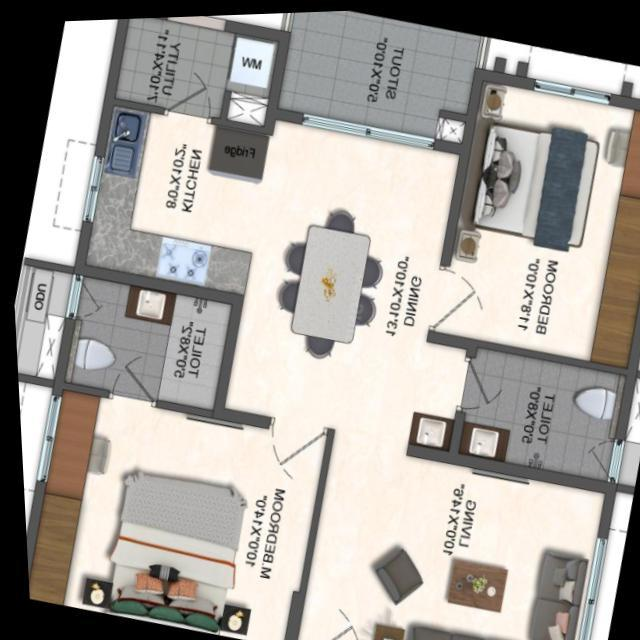Balcony-Sitout: (275, 8, 487, 143)
Bedroom: (425, 66, 640, 373)
Bedroom with Toilet: (20, 372, 331, 640)
Dining: (264, 193, 391, 363)
Kitchen: (66, 102, 272, 307)
Living: (279, 424, 611, 640)
Toilet: (46, 257, 243, 412), (443, 346, 632, 490)
Utility: (101, 12, 290, 129)
